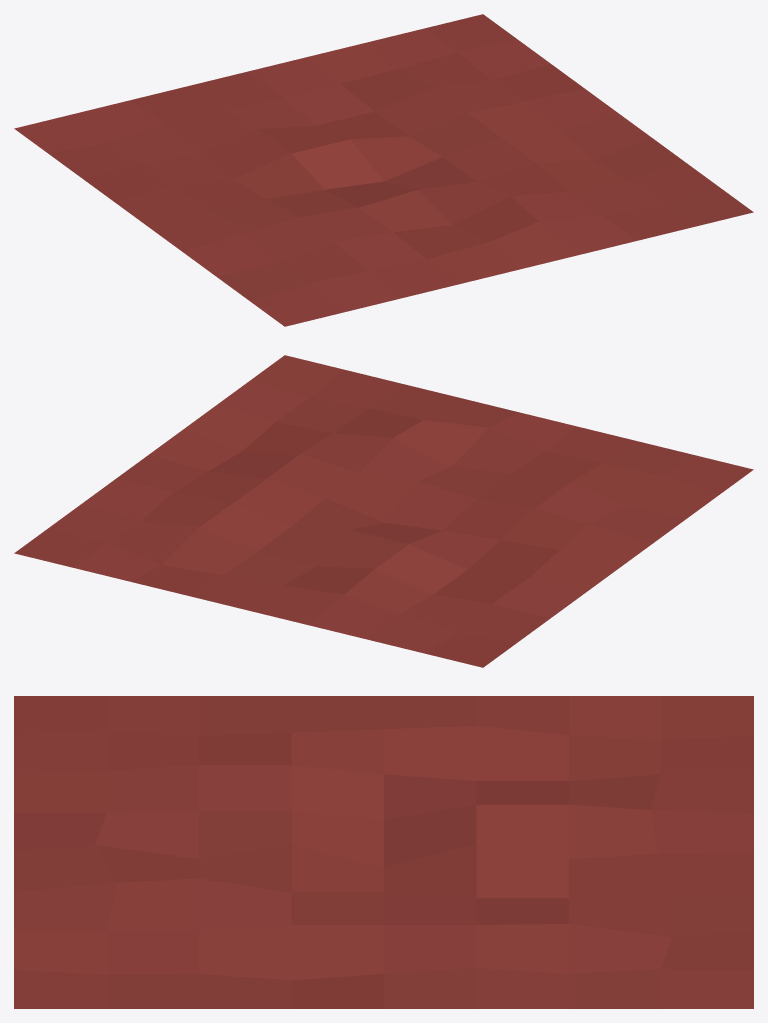
File: Terrain_15_Red.fbx
3 renders of one model, top to bottom at view 1: azimuth 30°, elevation 25°; view 2: azimuth 150°, elevation 25°; view 3: azimuth 270°, elevation 25°, orthographic. The views are drawn at different scales.
Visible parts, largest first — view 1: Terrain_15_Red; view 2: Terrain_15_Red; view 3: Terrain_15_Red.
Part boxes in pixels (box(x1,y1,x2,y2)): Terrain_15_Red: box(14, 14, 753, 326); Terrain_15_Red: box(14, 355, 753, 667); Terrain_15_Red: box(14, 696, 753, 1008).
Bounding box in the file's own units: 6000 × 252 × 6000.
